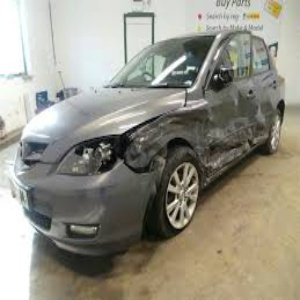bumper: (113, 167, 156, 253)
door: (210, 99, 272, 159)
head_lights: (55, 135, 128, 178)
